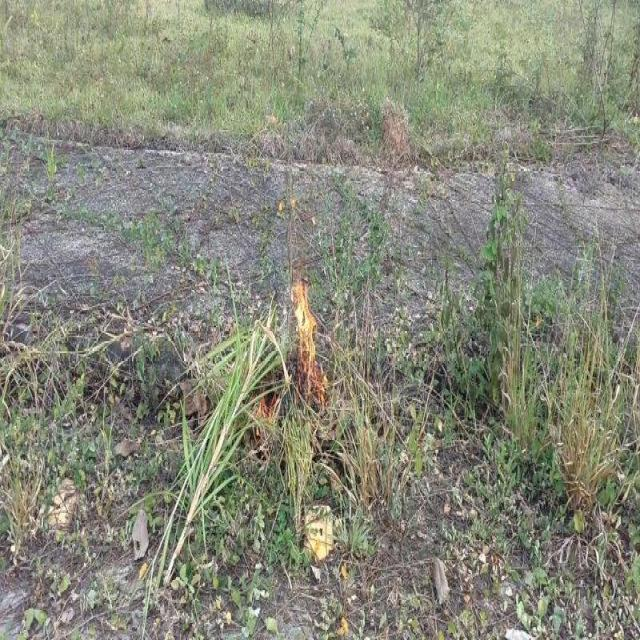Fire: (292, 276, 326, 388)
